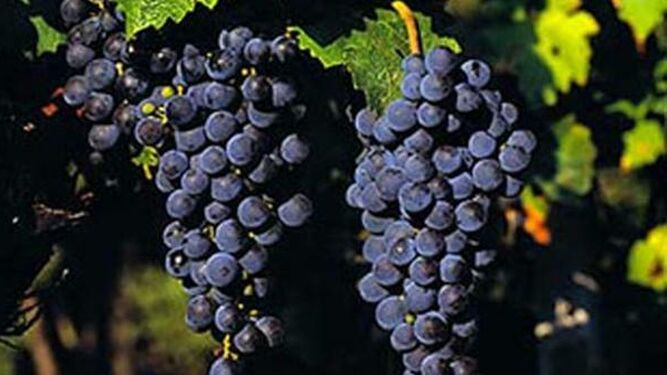Black grapes: (358, 56, 514, 375), (166, 47, 304, 364)
